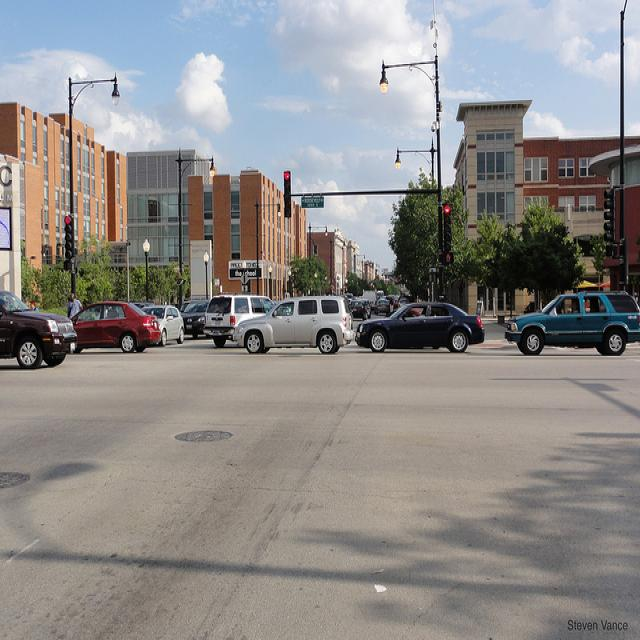Vehicle: (501, 294, 640, 359), (233, 297, 356, 356), (357, 300, 486, 353), (0, 290, 77, 370), (72, 301, 162, 352), (195, 294, 274, 348), (202, 294, 276, 348), (143, 305, 185, 347), (180, 299, 211, 340), (374, 298, 390, 316), (352, 301, 367, 320)
